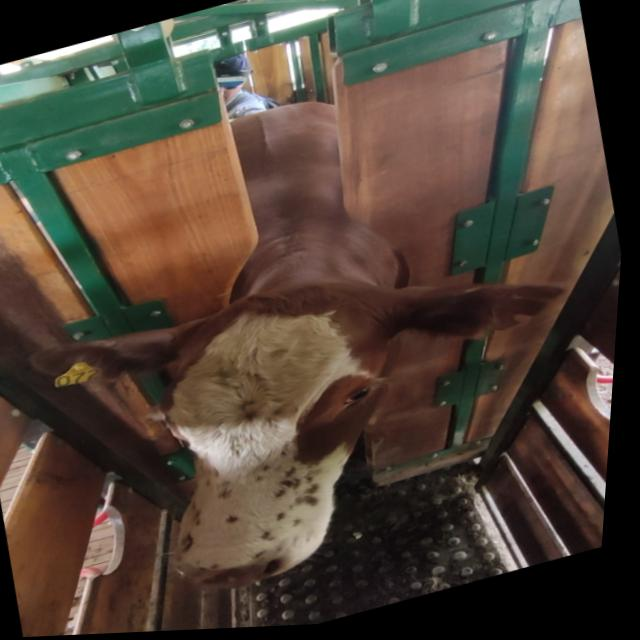cowFace: (128, 272, 430, 604)
